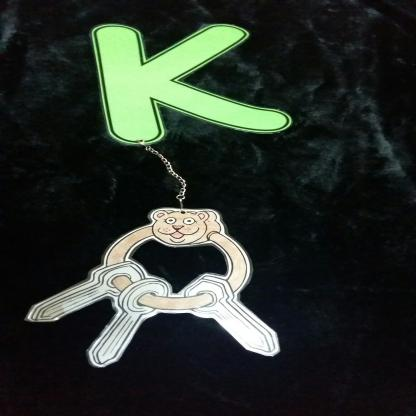key: (41, 205, 301, 368)
